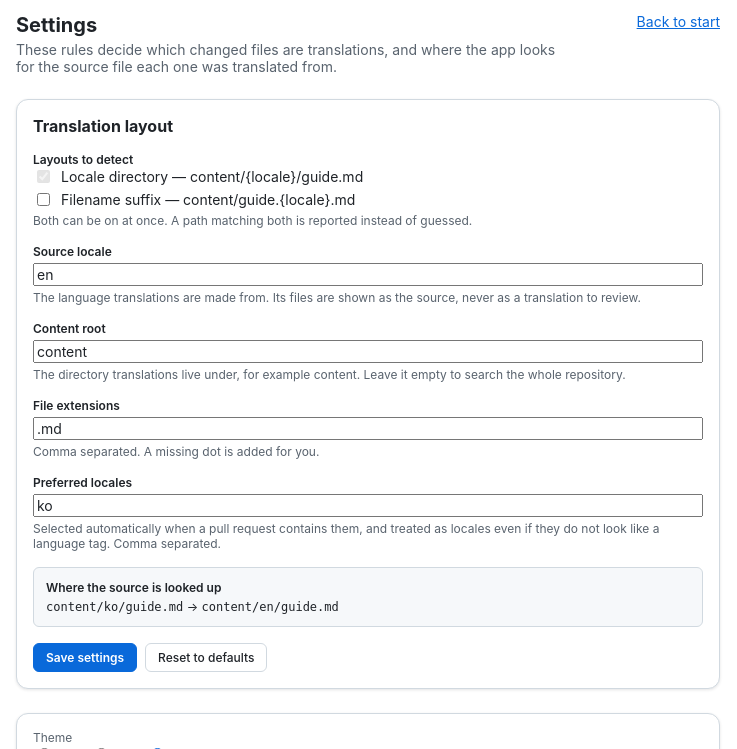
Test: SettingsScreen › cleans up what was typed and shows the stored form back
In the field labelled "Content root": (368, 352) x1=33 y1=340 x2=703 y2=363, type "/docs/"
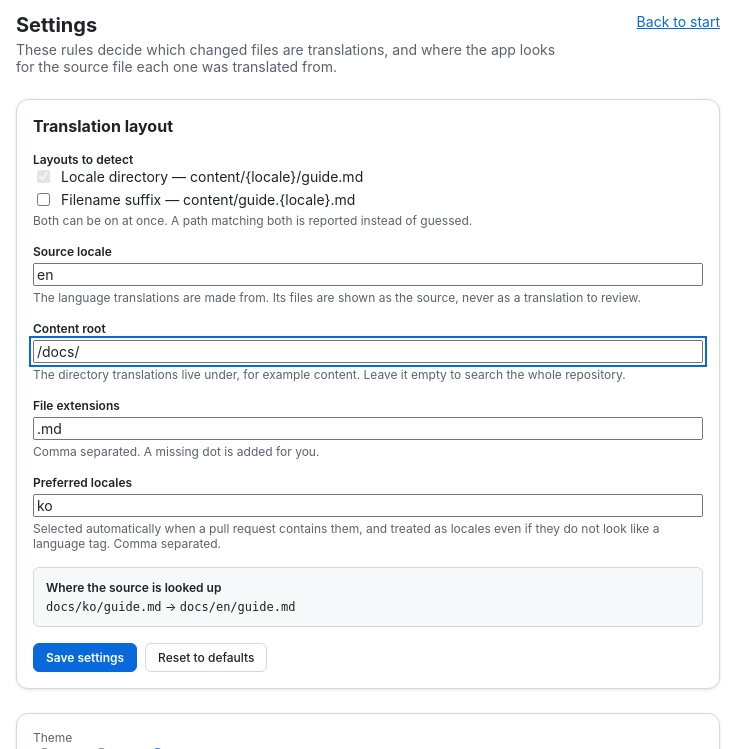
Replace the text in the field labelled "File extensions" with "md, MDX": (368, 428) x1=33 y1=417 x2=703 y2=440
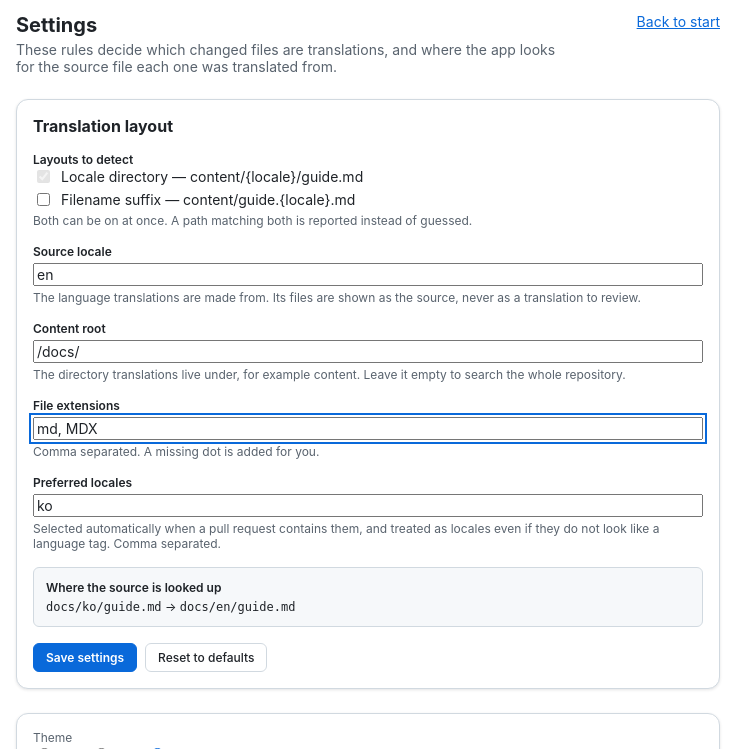
Click the button "Save settings": (85, 658) x1=33 y1=643 x2=137 y2=672
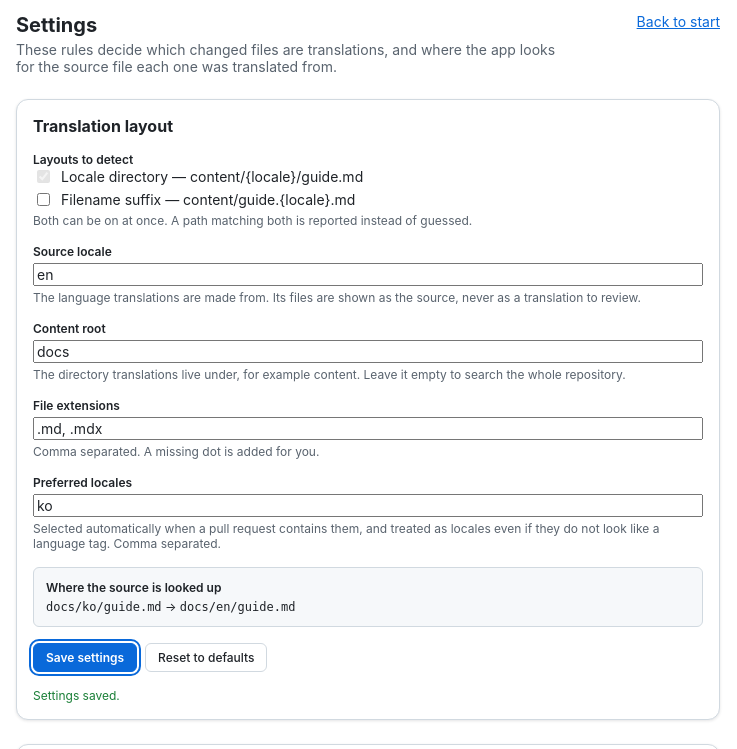
Expected: the field labelled "Content root" holds "docs", x1=33 y1=340 x2=703 y2=363
Expected: the field labelled "File extensions" holds ".md, .mdx", x1=33 y1=417 x2=703 y2=440
